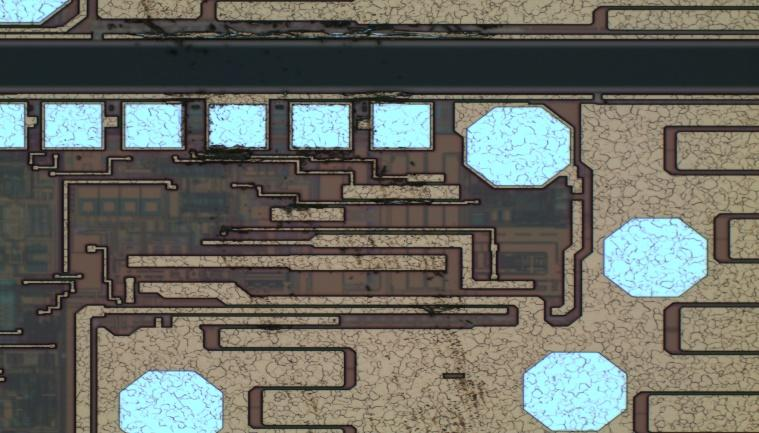SCRATCH: (129, 1, 516, 433)
